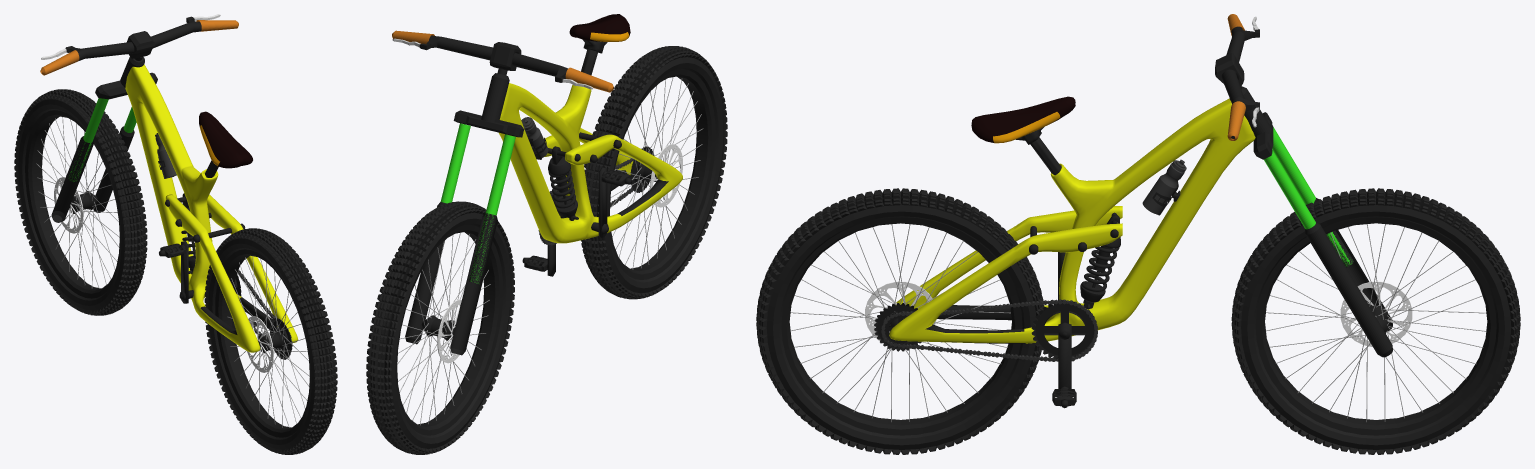
Rendered from Рама.fbx.
The picture shows the model from 3 angles, left to right: view 1: azimuth 30°, elevation 25°; view 2: azimuth 150°, elevation 25°; view 3: azimuth 270°, elevation 25°; orthographic projection. The views are drawn at different scales.
Visible parts, largest first — view 1: ban_depan, ban_belakang, rangka, stank, gear_depan; view 2: ban_depan, ban_belakang, rangka, stank, gear_depan; view 3: ban_depan, ban_belakang, rangka, stank, gear_depan, rantai.
Part boxes in pixels (x1,y1,x2,y2): ban_depan: [14, 89, 147, 315]; ban_belakang: [204, 228, 337, 454]; rangka: [125, 64, 298, 352]; stank: [40, 14, 238, 222]; gear_depan: [159, 241, 256, 327]; ban_depan: [366, 201, 514, 454]; ban_belakang: [581, 46, 727, 299]; rangka: [499, 14, 682, 243]; stank: [392, 30, 613, 355]; gear_depan: [522, 167, 631, 276]; ban_depan: [1231, 188, 1520, 454]; ban_belakang: [756, 188, 1044, 454]; rangka: [889, 96, 1255, 343]; stank: [1215, 14, 1392, 357]; gear_depan: [1031, 252, 1096, 408]; rantai: [881, 299, 1097, 361].
Bounding box in the file's own units: 478 × 735 × 1285.
